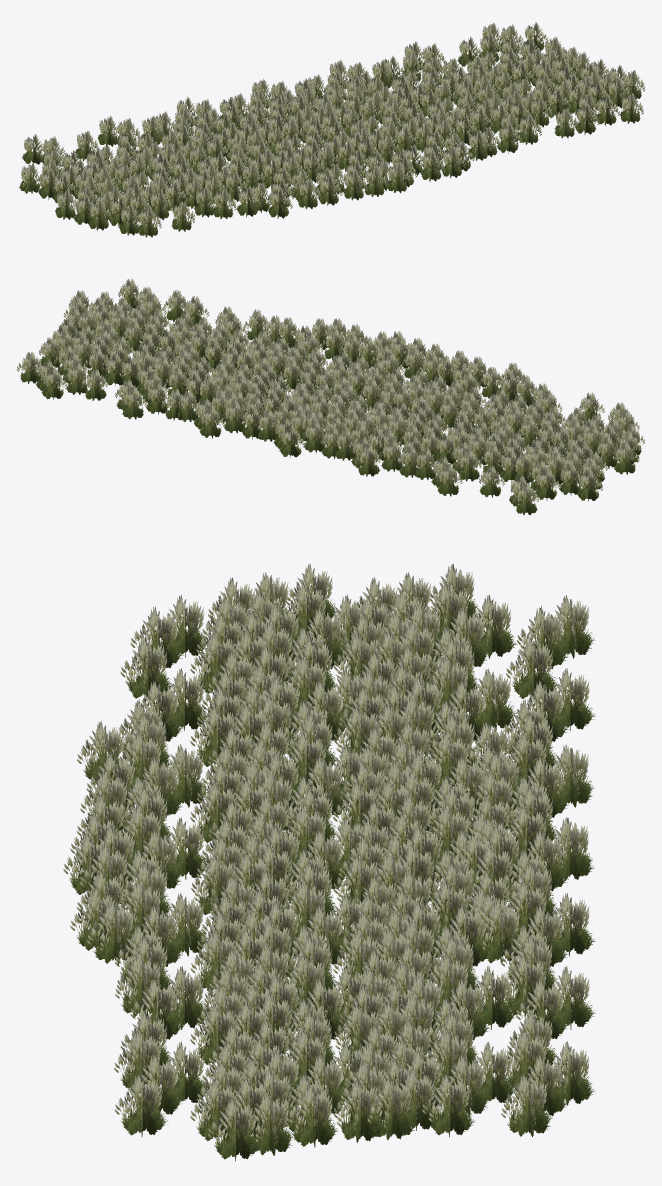
The model's file is WheatField.fbx.
3 renders of one model, top to bottom at view 1: azimuth 30°, elevation 25°; view 2: azimuth 150°, elevation 25°; view 3: azimuth 270°, elevation 25°, orthographic. The views are drawn at different scales.
Visible parts, largest first — view 1: Bush1.143; view 2: Bush1.143; view 3: Bush1.143.
Part boxes in pixels (x1,y1,x2,y2): Bush1.143: [18, 22, 645, 237]; Bush1.143: [16, 278, 645, 515]; Bush1.143: [63, 563, 595, 1161].
Bounding box in the file's own units: 3972 × 200 × 1630.
